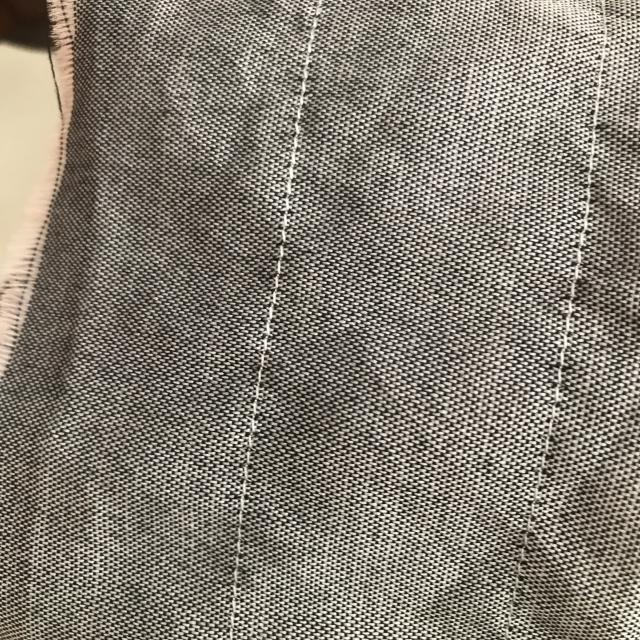good: (222, 437, 262, 611), (253, 251, 288, 373)
